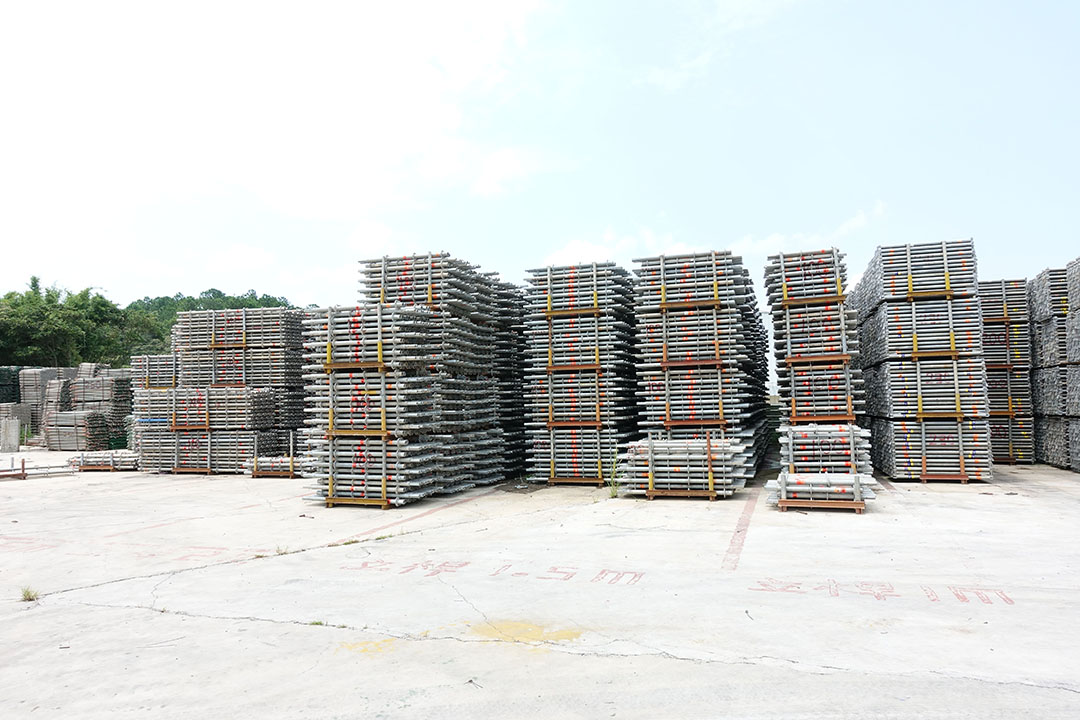building materials: (303, 440, 408, 510), (300, 304, 406, 372), (300, 374, 406, 441), (777, 423, 874, 493), (888, 422, 993, 485), (633, 369, 741, 429), (886, 360, 989, 421), (631, 248, 735, 308), (633, 310, 740, 368), (357, 250, 450, 316), (883, 300, 984, 360), (879, 238, 977, 299), (129, 430, 255, 475), (132, 387, 257, 432), (525, 259, 619, 318), (521, 374, 620, 430), (522, 430, 617, 488), (522, 318, 618, 374), (775, 365, 862, 425), (767, 244, 848, 307), (771, 306, 857, 365), (175, 306, 286, 349), (174, 350, 286, 388)
